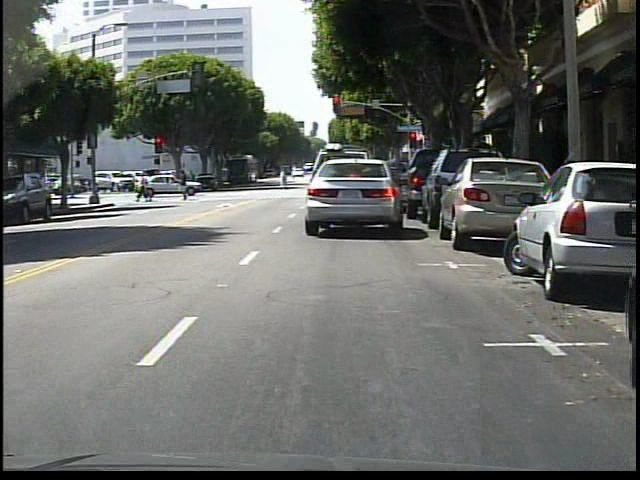person: (136, 174, 152, 204), (178, 169, 191, 201), (280, 166, 288, 190)
